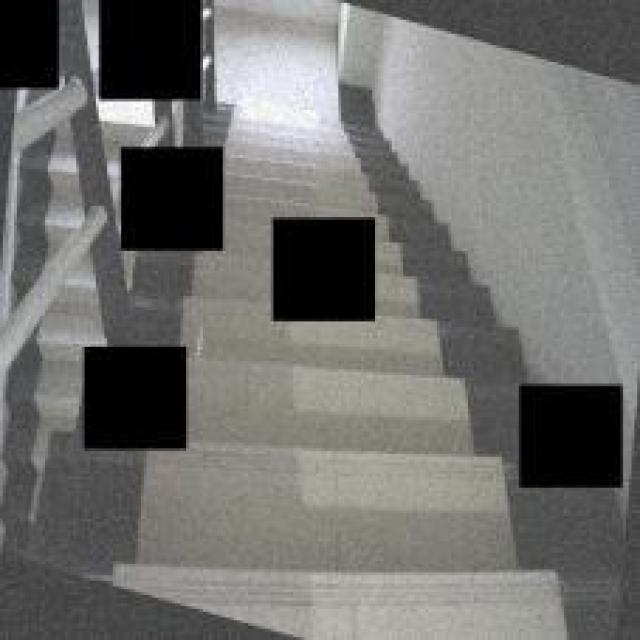downstair: (224, 354, 511, 639)
